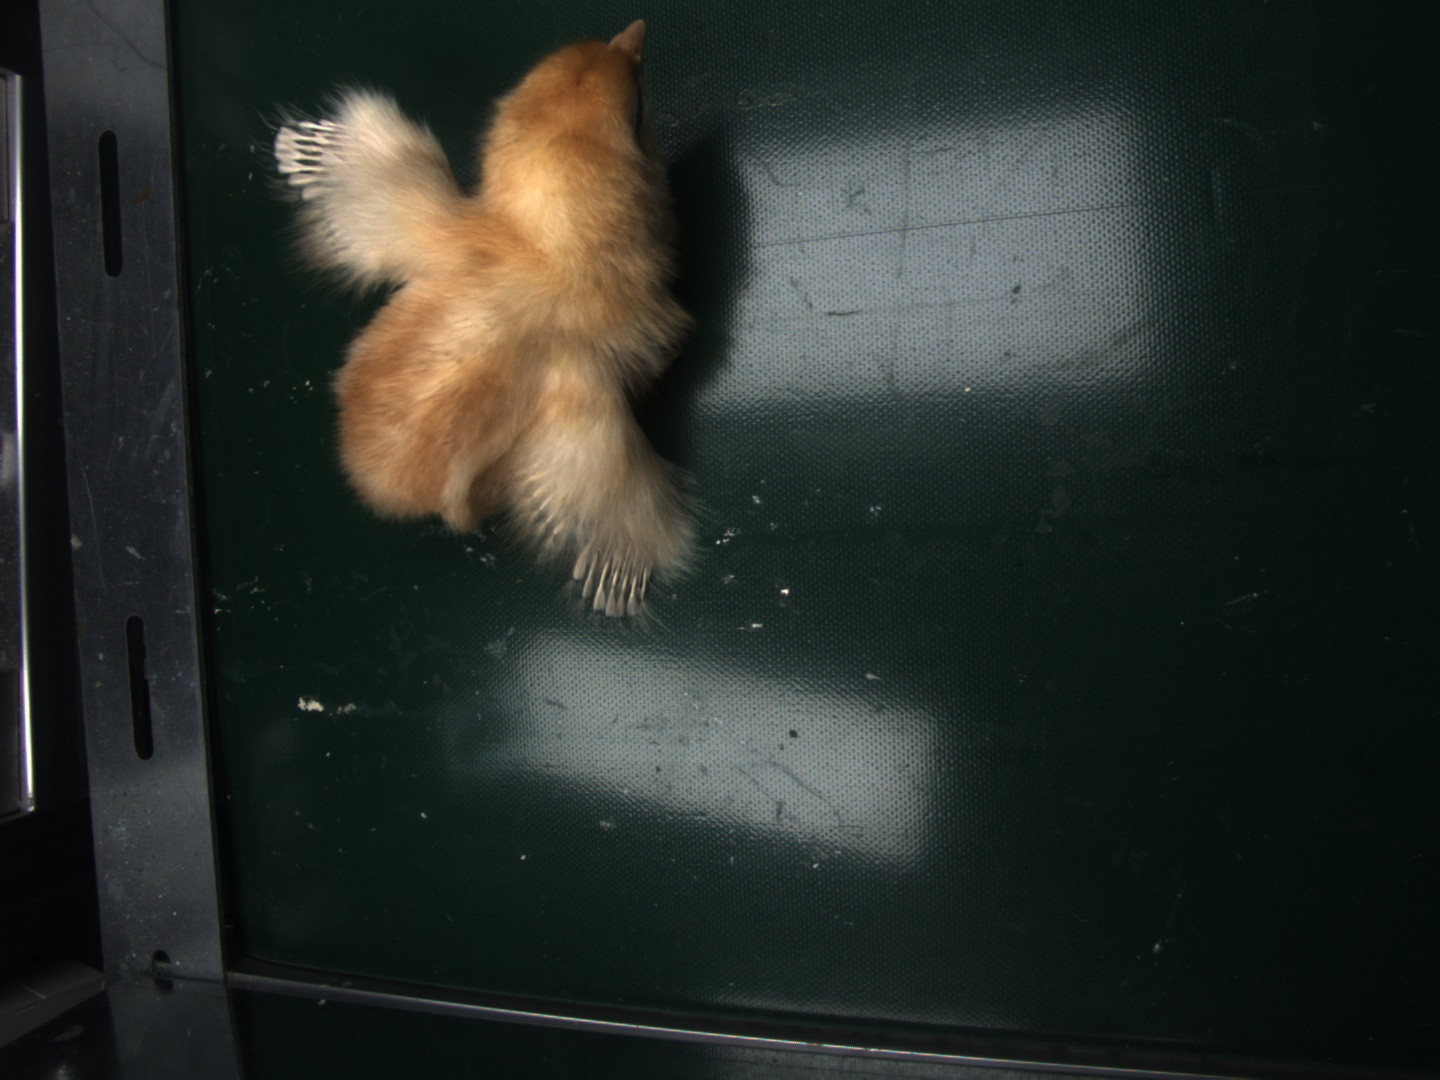female: (270, 110, 350, 193), (568, 534, 650, 614)
